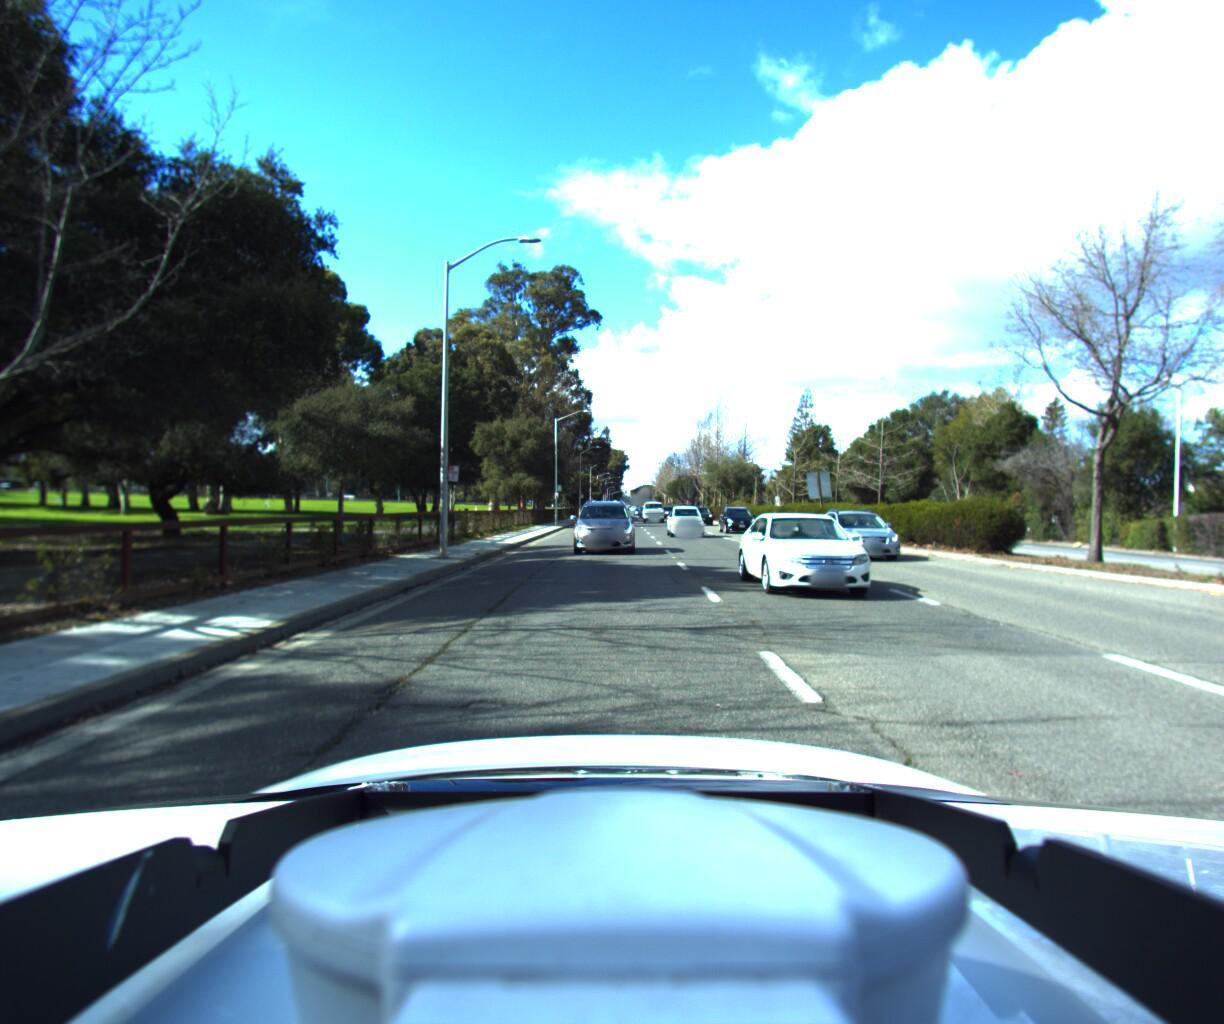car: (744, 506, 916, 610), (823, 505, 928, 562), (571, 496, 635, 555), (667, 505, 710, 539), (721, 503, 764, 534), (640, 502, 665, 520)
